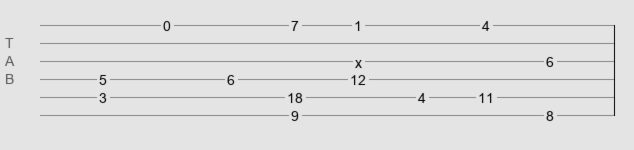0: (163, 18, 171, 28)
1: (354, 18, 362, 28)
11: (478, 90, 494, 100)
12: (350, 72, 366, 82)
18: (287, 90, 303, 100)
3: (99, 90, 107, 100)
4: (418, 90, 426, 100), (482, 18, 490, 28)
5: (99, 72, 107, 82)
6: (227, 72, 235, 82), (546, 54, 554, 64)
7: (291, 18, 299, 28)
8: (546, 108, 554, 118)
9: (291, 108, 299, 118)
x: (355, 55, 362, 63)
